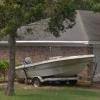Boat: (17, 46, 95, 89)
